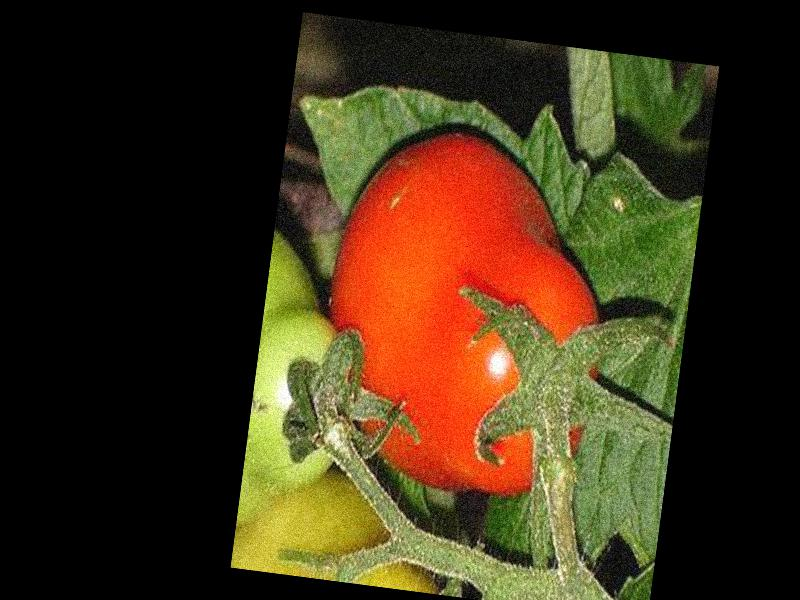Tomato: (308, 117, 625, 504)
